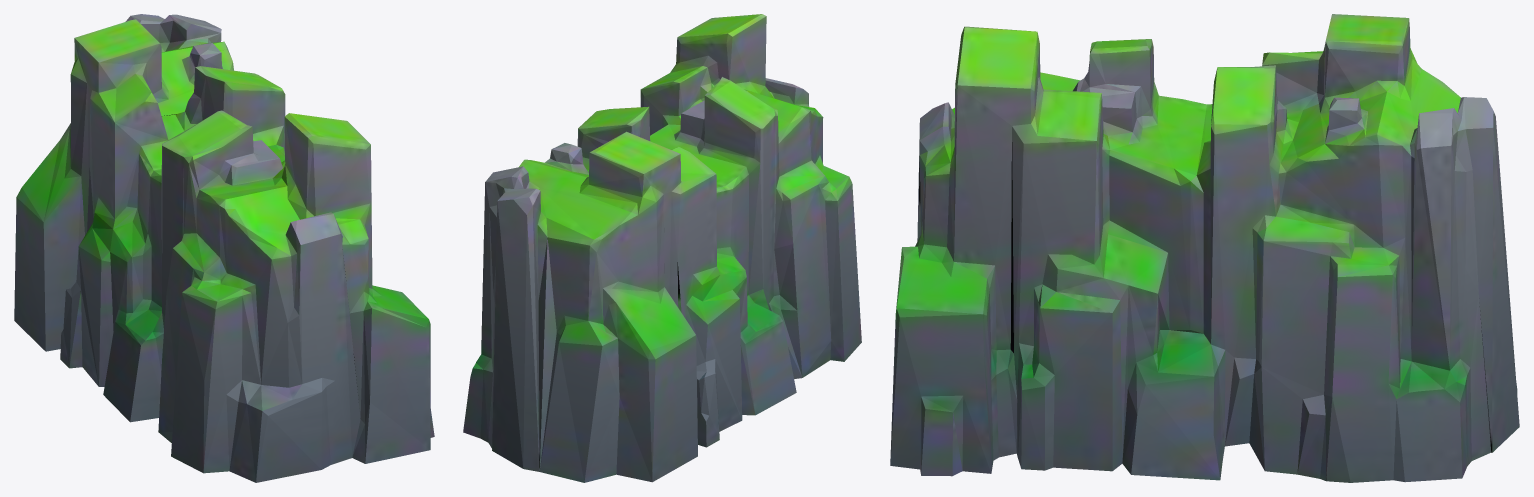
The model's file is cliff_tall_moss.glb.
3 views of the same model, side by side, from view 1: azimuth 30°, elevation 25°; view 2: azimuth 150°, elevation 25°; view 3: azimuth 270°, elevation 25° (orthographic). The views are drawn at different scales.
Parts seen in each view (by area): view 1: cliff_tall_moss; view 2: cliff_tall_moss; view 3: cliff_tall_moss.
Part boxes in pixels (bbox=[...]): cliff_tall_moss: bbox=[14, 14, 434, 482]; cliff_tall_moss: bbox=[463, 14, 861, 482]; cliff_tall_moss: bbox=[890, 14, 1519, 482].
Size of the model in its own units: 6.09 by 7.95 by 11.74.
Materials: 1 (1 with a texture image).
